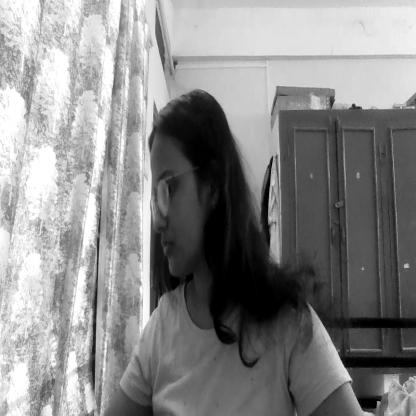Distracted: (146, 98, 236, 284)
